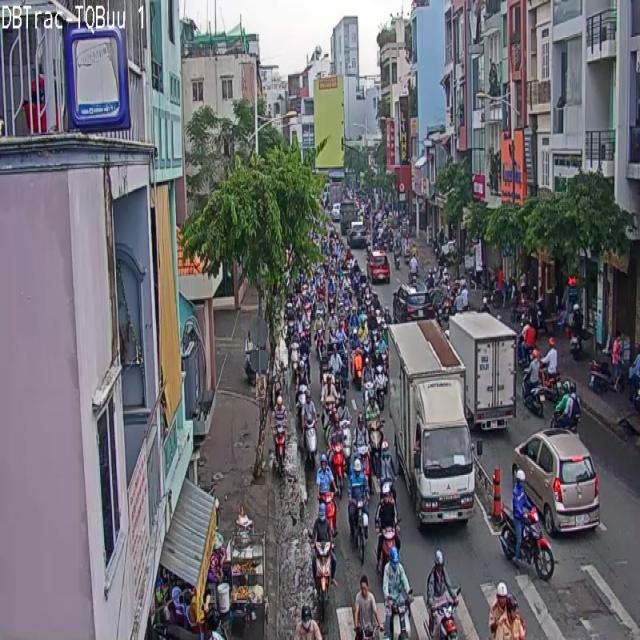car: (383, 540, 411, 639), (348, 458, 368, 560), (376, 484, 397, 573), (313, 529, 332, 620), (317, 454, 334, 501), (306, 425, 315, 451)
traffic-light: (512, 428, 600, 533)
truck: (390, 321, 474, 525)
